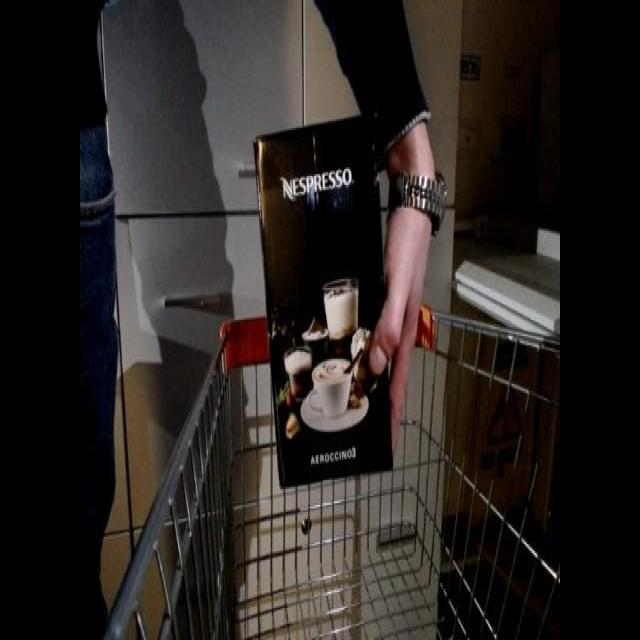Nespresso: (244, 90, 419, 504)
